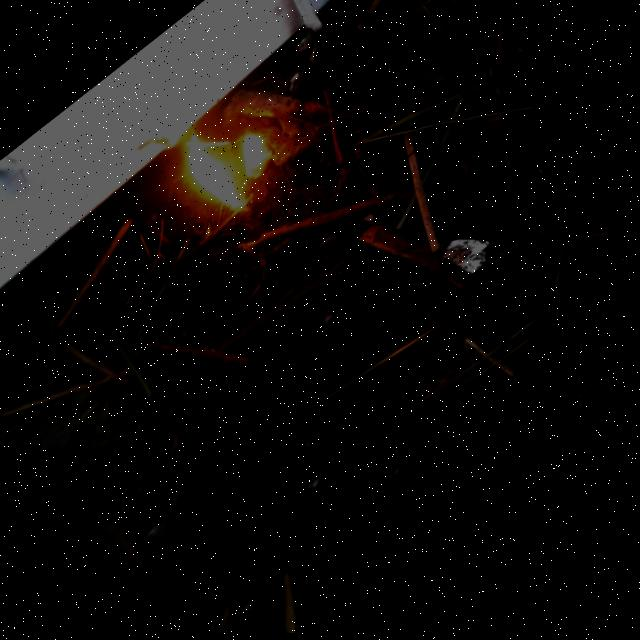Fire: (161, 94, 301, 233)
